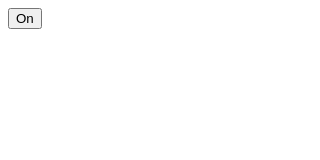
Switch with the page's words › says the page's words beside the track in place of the kit's, and reads none of the kit's
The width and height of the screenshot is (320, 160).
Click the switch named "Product". click: point(25, 18)
box: [8, 8, 42, 29]
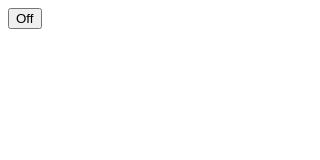
Result: the text "Off" is shown at [16, 11, 34, 26]
